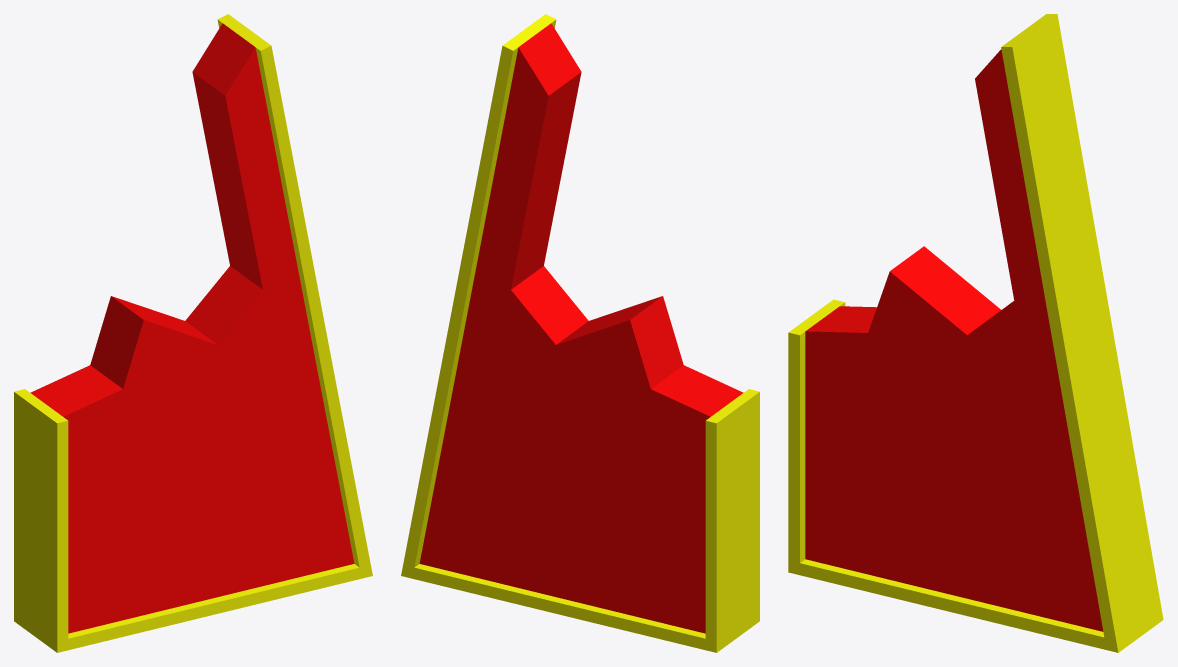
The model's file is broken door.obj.
3 views of the same model, side by side, from view 1: azimuth 30°, elevation 25°; view 2: azimuth 150°, elevation 25°; view 3: azimuth 330°, elevation 25° (orthographic). The views are drawn at different scales.
Visible parts, largest first — view 1: BROKEN_2; view 2: BROKEN_2; view 3: BROKEN_2.
Boxes of the visible parts, x1=… form: BROKEN_2: x1=14, y1=14, x2=372, y2=652; BROKEN_2: x1=401, y1=14, x2=759, y2=652; BROKEN_2: x1=788, y1=14, x2=1163, y2=652.
Bounding box in the file's own units: 1.43 × 2.39 × 0.3381.
